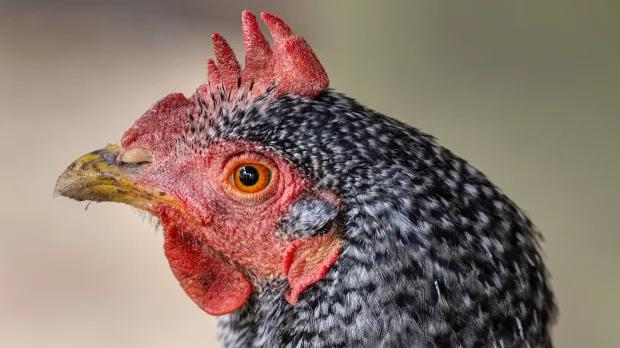AbNormal: (118, 8, 330, 142)
